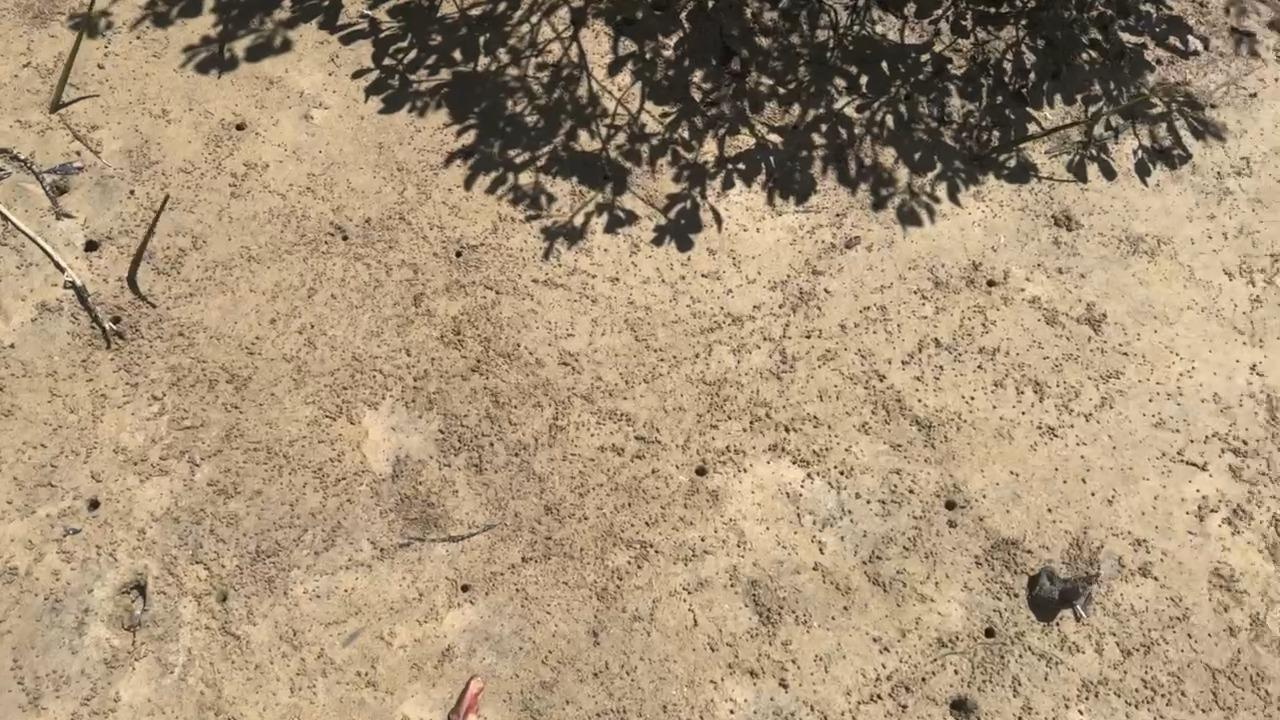Tree: (49, 0, 97, 114), (128, 194, 169, 272)
